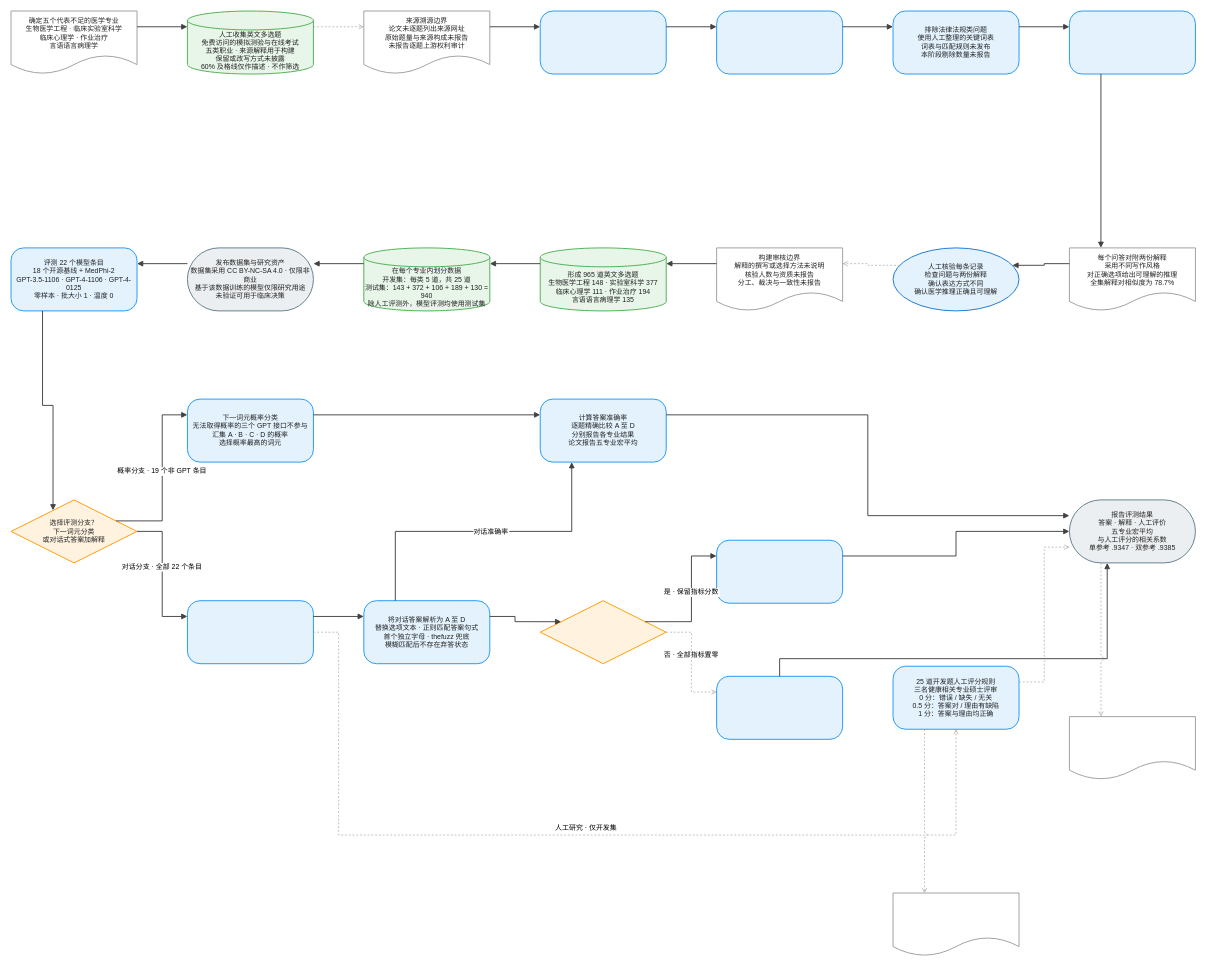
This 1207x968 diagram has some shape labels left out. The centre of each missing label's shape, as x and y in pixels:
"人工评审边界 未报告题目分配与每题评审人数 未报告分数聚合方式 未报告裁决与一致性" goes at [955,924].
"删除完全重复项 对问题去重 对解释去重 各阶段剔除数量未报告" goes at [602,42].
"删除语义相似问题 使用 BERT 表征与余弦相似度 检查语义近重复 模型版本与阈值未披露" goes at [779,42].
"发布代码与分母边界 代码按专业写 CSV；已有 CSV 会直接复用 未发布解释、人工评测或宏平均流水线 未规定报错、缺行、版本或双参考归约策略" goes at [1132,748].
"将全部解释指标强制置零 字符串匹配答案错误时必须执行 错误答案的推理不能获得部分分" goes at [779,707].
"打乱答案选项 为合理使用调整原始选项位置 保持正确答案映射不变 算法与随机种子未披露" goes at [1132,42].
"生成对话式答案与解释 发布脚本采用贪心解码 不采样 · 最多生成 300 个新词元 将 generated_text 直接交给解析器" goes at [250,632].
"解析出的选项 是否等于标准答案？" goes at [602,632].
"评价生成解释 BLEU · ROUGE-L · METEOR 通过 evaluate 计算 SciBERT BERTScore 与两份参考解释比较" goes at [779,571].
